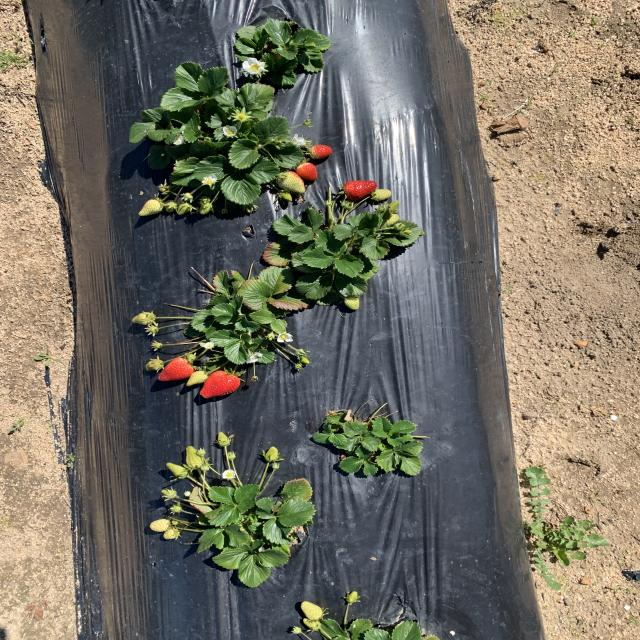unripe: (199, 370, 241, 398), (158, 357, 195, 382), (342, 180, 377, 199), (296, 162, 318, 181), (310, 144, 333, 158)
